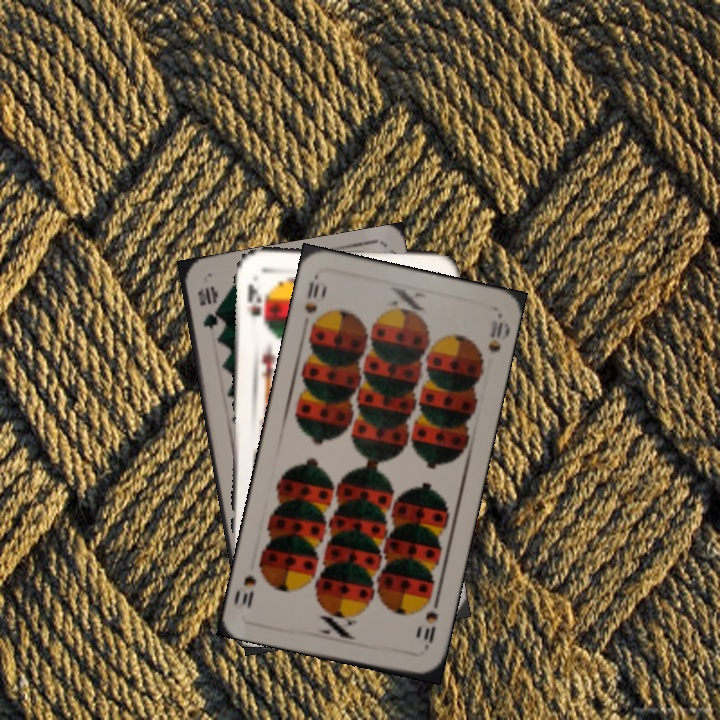G10: (193, 282, 221, 331)
S10: (300, 272, 323, 332), (419, 607, 441, 653)
SK: (243, 279, 268, 328)
